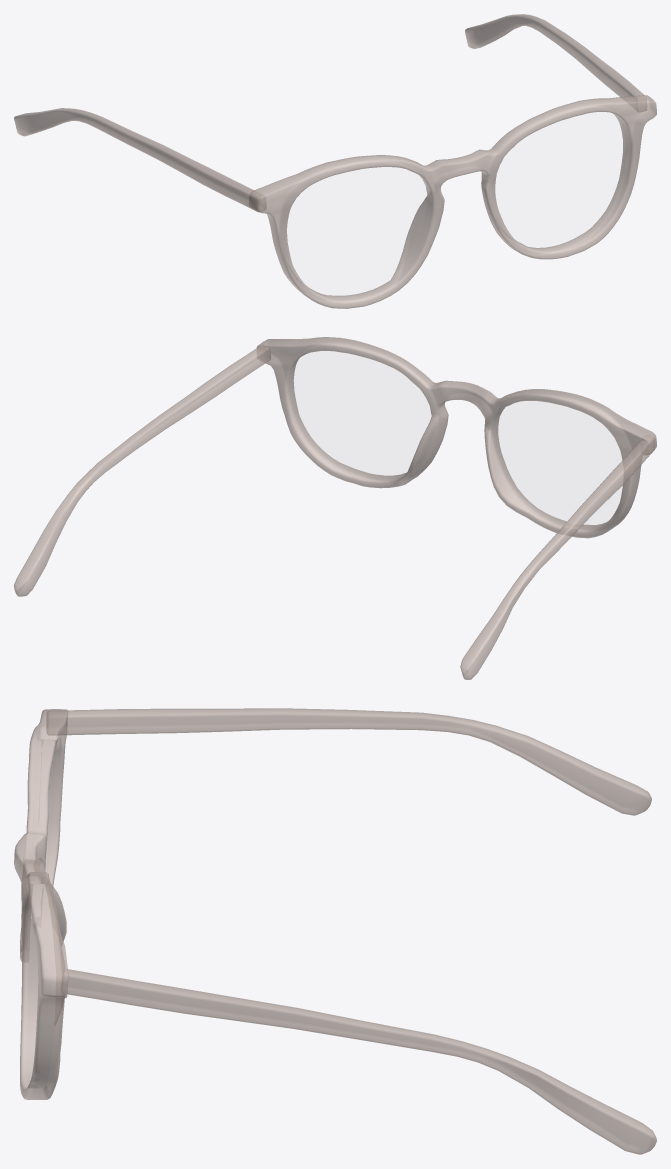
The model's file is brille2.glb.
3 views of the same model, one above another, from view 1: azimuth 30°, elevation 25°; view 2: azimuth 150°, elevation 25°; view 3: azimuth 270°, elevation 25° (orthographic). The views are drawn at different scales.
Visible parts, largest first — view 1: defaultMaterial.004; view 2: defaultMaterial.004; view 3: defaultMaterial.004.
Part boxes in pixels (x1=…): defaultMaterial.004: x1=14, y1=14, x2=656, y2=308; defaultMaterial.004: x1=14, y1=337, x2=656, y2=679; defaultMaterial.004: x1=14, y1=708, x2=656, y2=1154.
Size of the model in its own units: 0.1728 by 0.051 by 0.15.
